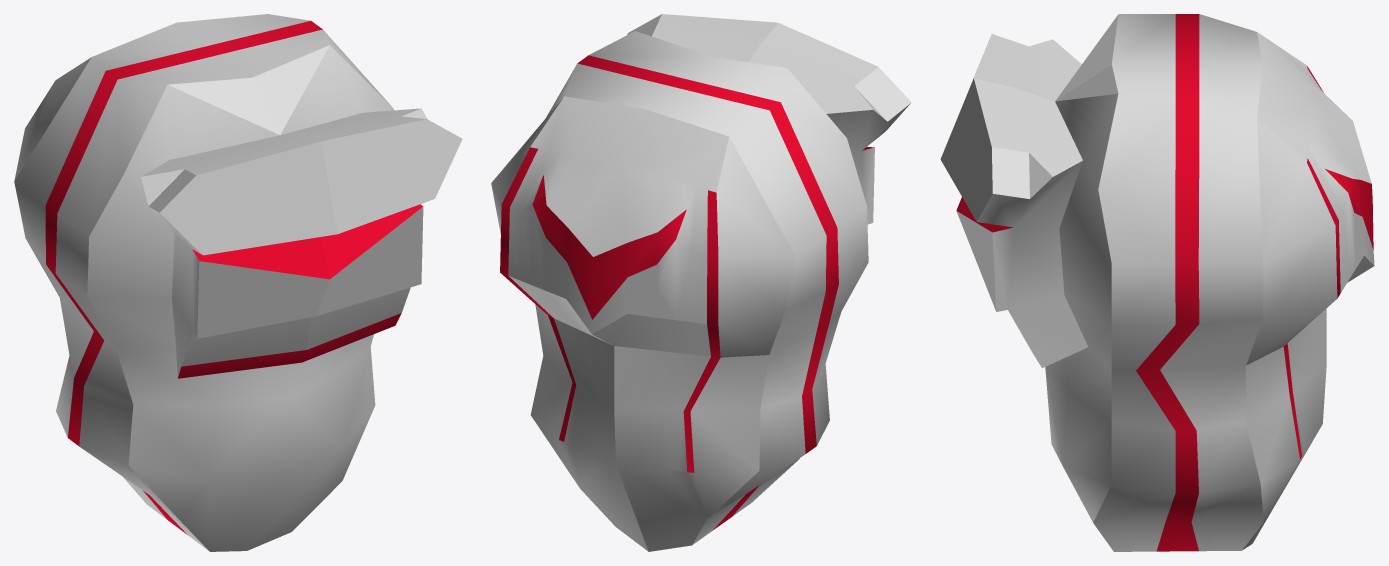
File: body.glb
3 renders of one model, left to right at view 1: azimuth 30°, elevation 25°; view 2: azimuth 150°, elevation 25°; view 3: azimuth 270°, elevation 25°, orthographic. The views are drawn at different scales.
Parts seen in each view (by area): view 1: 1.026, 0.032; view 2: 1.026, 0.032; view 3: 1.026, 0.032.
Boxes of the visible parts, x1=… form: 1.026: x1=14, y1=14, x2=462, y2=551; 0.032: x1=45, y1=21, x2=422, y2=534; 1.026: x1=491, y1=14, x2=911, y2=551; 0.032: x1=500, y1=55, x2=874, y2=530; 1.026: x1=940, y1=14, x2=1374, y2=551; 0.032: x1=956, y1=14, x2=1373, y2=551.
Bounding box in the file's own units: 0.5099 × 0.721 × 0.5789.
